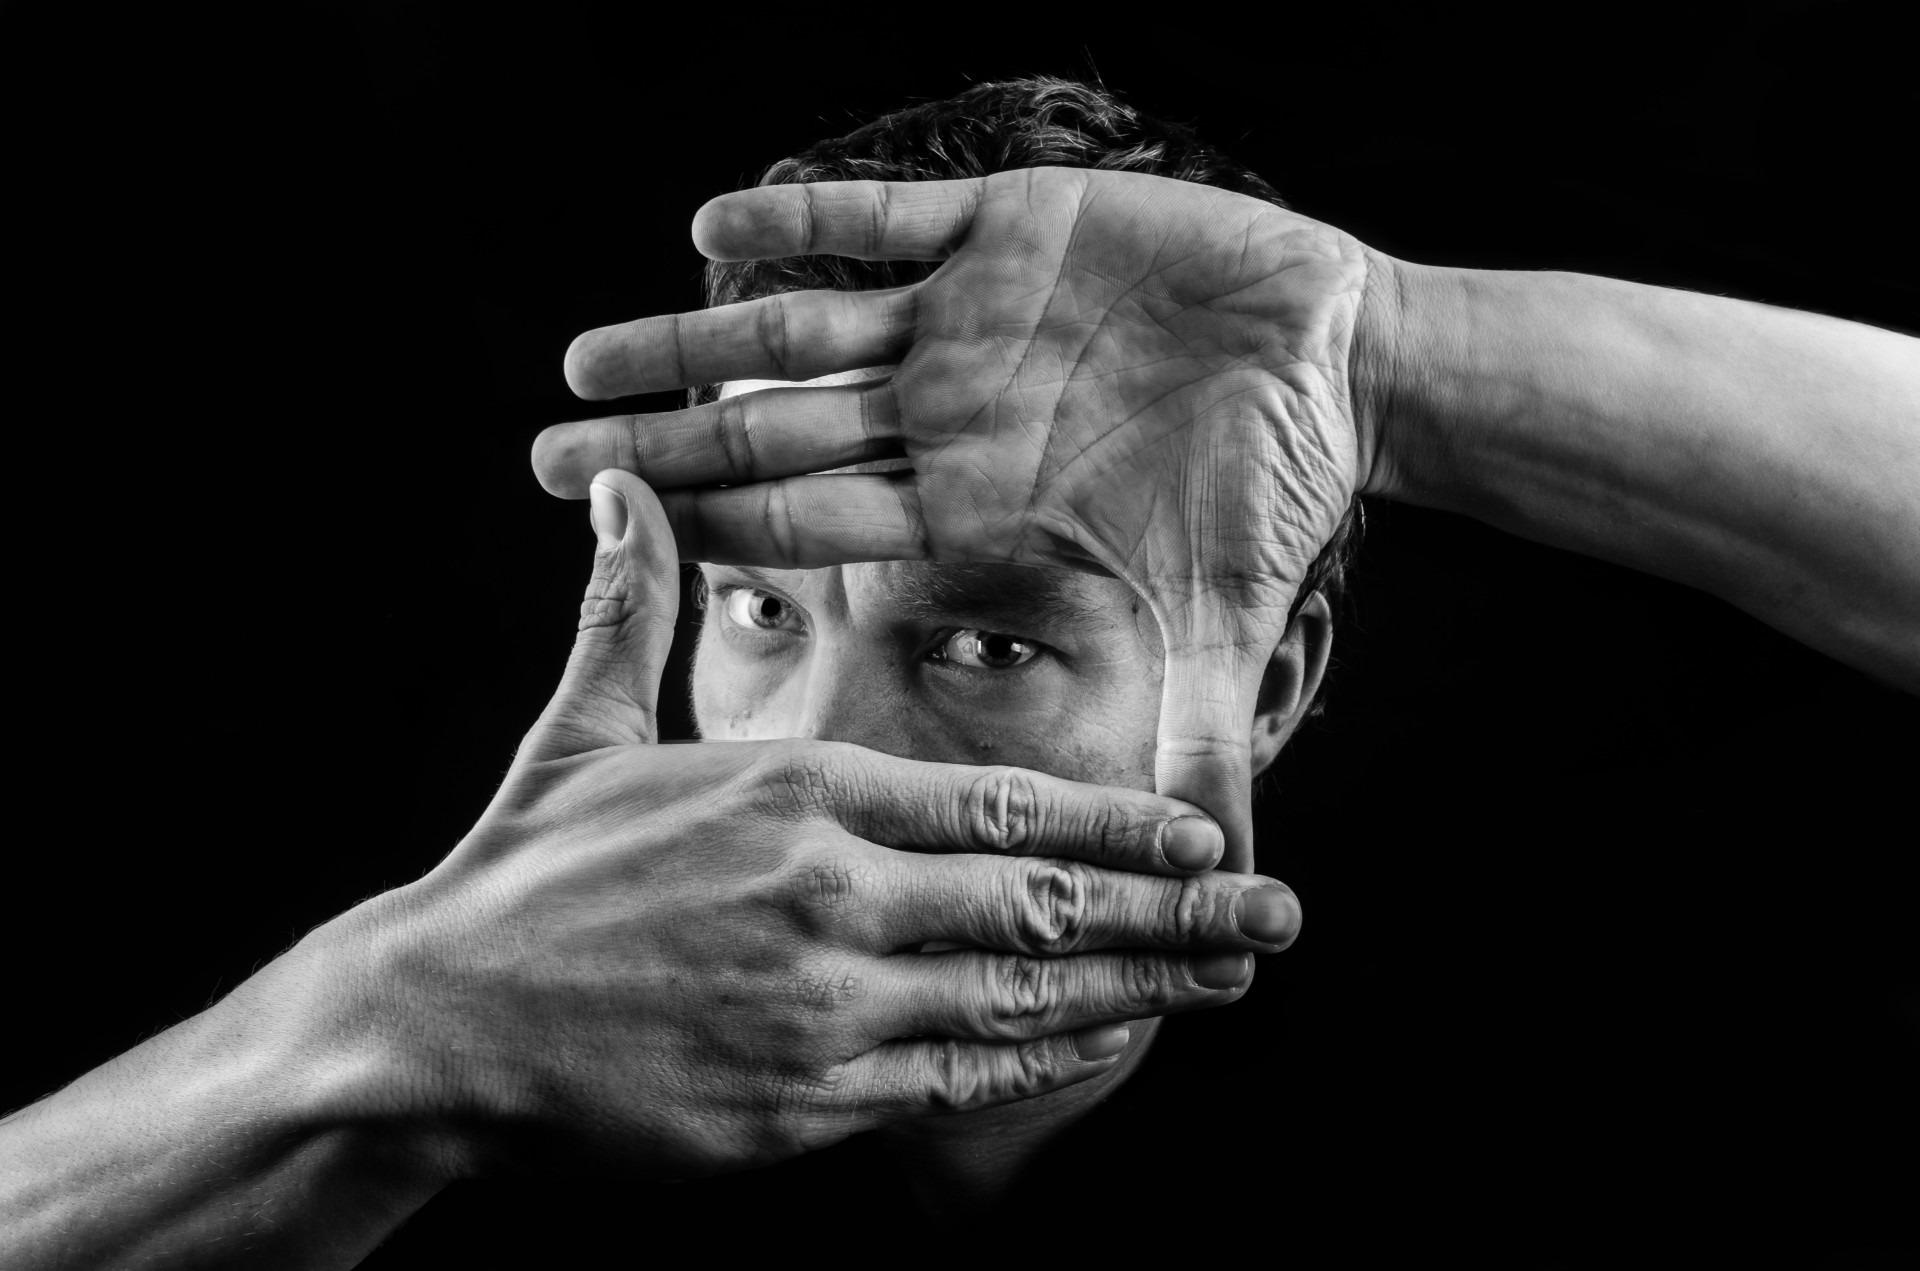human: (571, 49, 1399, 1128)
